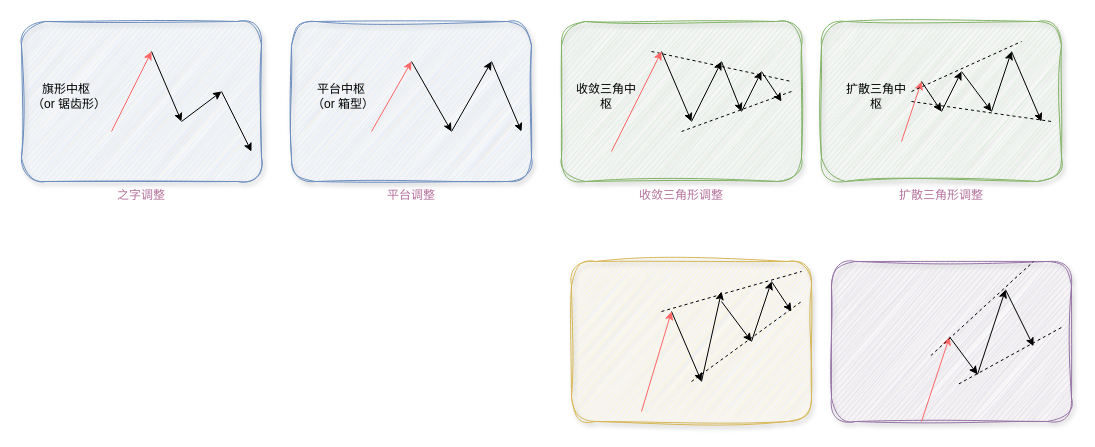
This 1095x447 diagram has some shape labels left out. The shapes that lost their labels are listed below. From the top down, each one's centre as x and y in pixels, then its label:
(692,342): 楔形中枢
(952,342): 奔走型中枢
